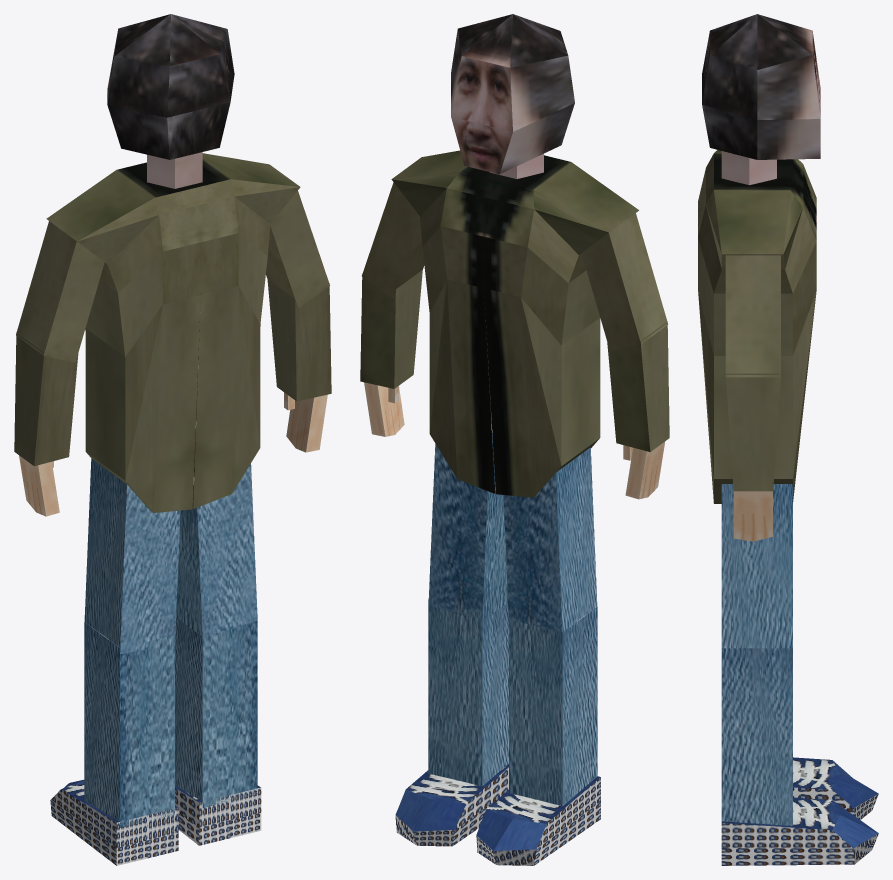
The model's file is protagonist.fbx.
The picture shows the model from 3 angles, left to right: view 1: azimuth 30°, elevation 25°; view 2: azimuth 150°, elevation 25°; view 3: azimuth 270°, elevation 25°; orthographic projection. The views are drawn at different scales.
Visible parts, largest first — view 1: beveled_cuboid, cuboid_9, cylinder_1, cuboid_10, cuboid_11, cuboid_8, cuboid, cuboid_2, cuboid_1, cuboid_13, cuboid_3, cuboid_12 (+3 smaller); view 2: beveled_cuboid, cylinder_1, cuboid_9, cuboid_10, cuboid_11, cuboid_8, cuboid, cuboid_13, cuboid_2, cuboid_12, cuboid_1, cuboid_3 (+2 smaller); view 3: beveled_cuboid, cylinder_1, cuboid_10, cuboid_8, cuboid_12, cuboid_3, cuboid_1, cuboid_13, cuboid_5, cylinder.
Boxes of the visible parts, bbox=[...] form: beveled_cuboid: bbox=[46, 153, 300, 512]; cuboid_9: bbox=[84, 622, 174, 827]; cylinder_1: bbox=[107, 14, 234, 159]; cuboid_10: bbox=[175, 614, 257, 807]; cuboid_11: bbox=[84, 458, 180, 654]; cuboid_8: bbox=[176, 463, 257, 636]; cuboid: bbox=[16, 221, 104, 362]; cuboid_2: bbox=[14, 332, 78, 466]; cuboid_1: bbox=[267, 279, 331, 401]; cuboid_13: bbox=[50, 779, 178, 865]; cuboid_3: bbox=[266, 191, 329, 308]; cuboid_12: bbox=[175, 785, 261, 845]; beveled_cuboid: bbox=[391, 150, 638, 497]; cylinder_1: bbox=[451, 14, 574, 174]; cuboid_9: bbox=[509, 607, 597, 806]; cuboid_10: bbox=[428, 599, 508, 786]; cuboid_11: bbox=[503, 447, 597, 631]; cuboid_8: bbox=[428, 413, 507, 620]; cuboid: bbox=[581, 213, 668, 350]; cuboid_13: bbox=[476, 776, 600, 865]; cuboid_2: bbox=[607, 321, 669, 451]; cuboid_12: bbox=[395, 764, 508, 846]; cuboid_1: bbox=[360, 270, 422, 388]; cuboid_3: bbox=[362, 182, 424, 297]; beveled_cuboid: bbox=[698, 150, 816, 503]; cylinder_1: bbox=[702, 14, 820, 159]; cuboid_10: bbox=[721, 648, 792, 825]; cuboid_8: bbox=[721, 484, 792, 648]; cuboid_12: bbox=[721, 797, 878, 865]; cuboid_3: bbox=[725, 255, 780, 377]; cuboid_1: bbox=[725, 373, 780, 491]; cuboid_13: bbox=[793, 757, 878, 819]; cuboid_5: bbox=[733, 491, 772, 541]; cylinder: bbox=[721, 151, 776, 185].
Bounding box in the file's own units: 540 × 1425 × 286.
Materials: 6 (6 with a texture image).
